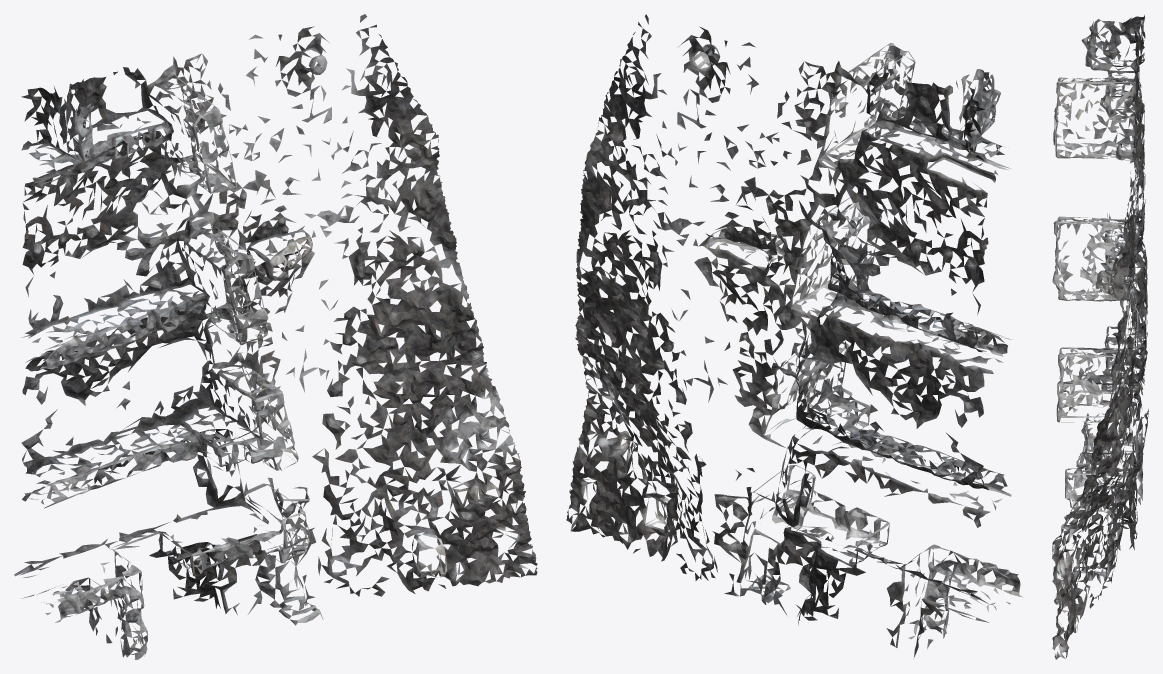
3 views of the same model, side by side, from view 1: azimuth 30°, elevation 25°; view 2: azimuth 150°, elevation 25°; view 3: azimuth 270°, elevation 25° (orthographic). The views are drawn at different scales.
Size of the model in its own units: 12.07 by 14.05 by 2.62.
Materials: 1 (1 with a texture image).
